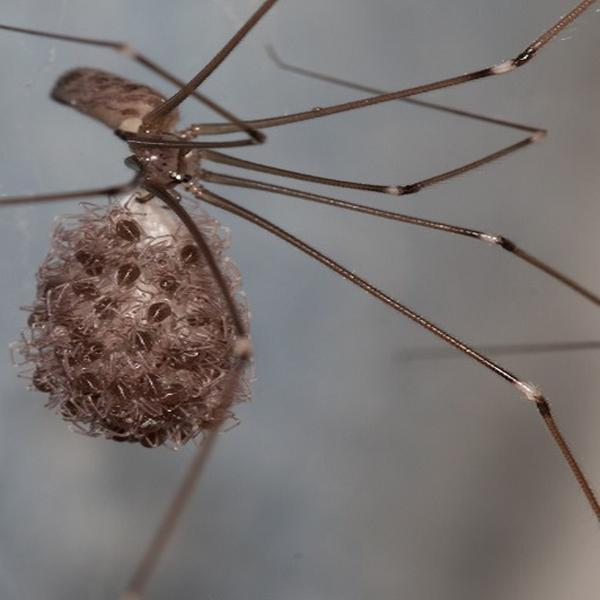Daddy Long Legs Spider: (11, 16, 539, 549)
